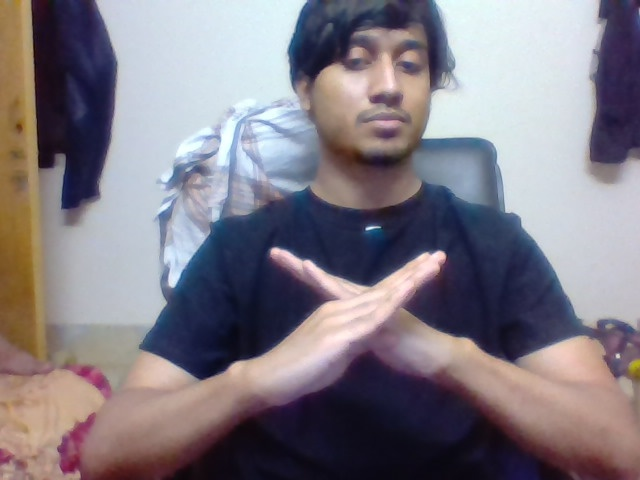X: (246, 236, 478, 386)
